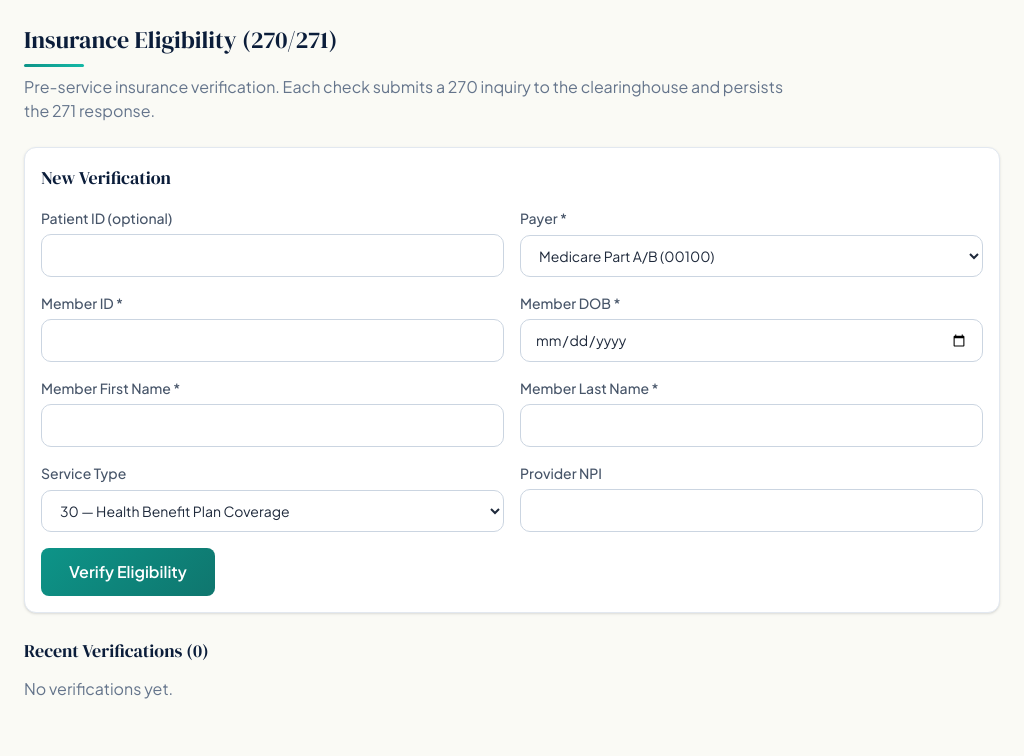
Test: EligibilityPage › submits a verification and shows the result panel
The width and height of the screenshot is (1024, 756).
Check: the heading "New Verification" is shown, box [41,165,171,190]
Type "1EG4-TE5-MK74" into the field labelled "Member ID *" at {"x": 272, "y": 340}, box [41,319,504,362]
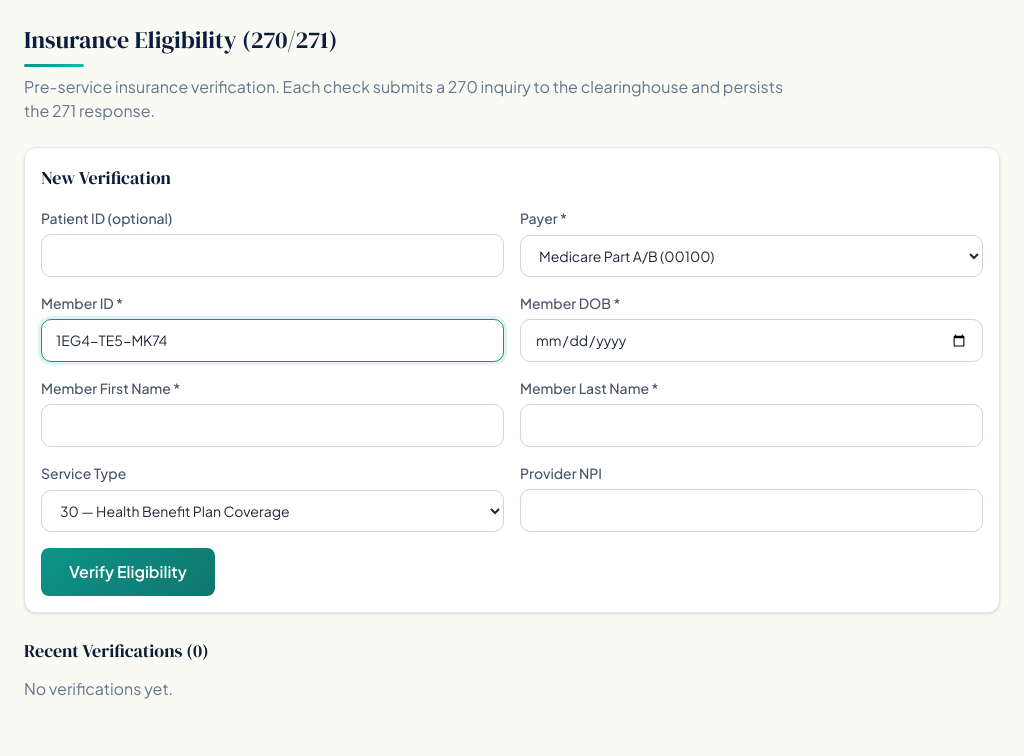
Type "1940-03-14" into the date field labelled "Member DOB *" at {"x": 752, "y": 340}, box [520,319,983,362]
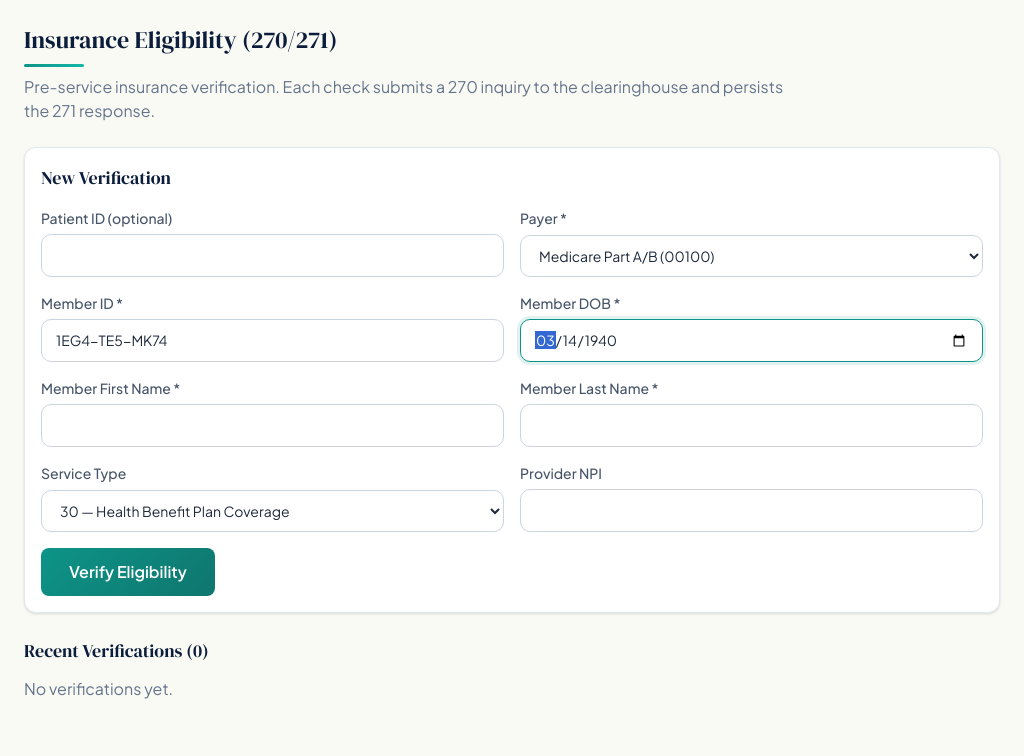
Type "Margaret" into the field labelled "Member First Name *" at {"x": 272, "y": 426}, box [41,404,504,447]
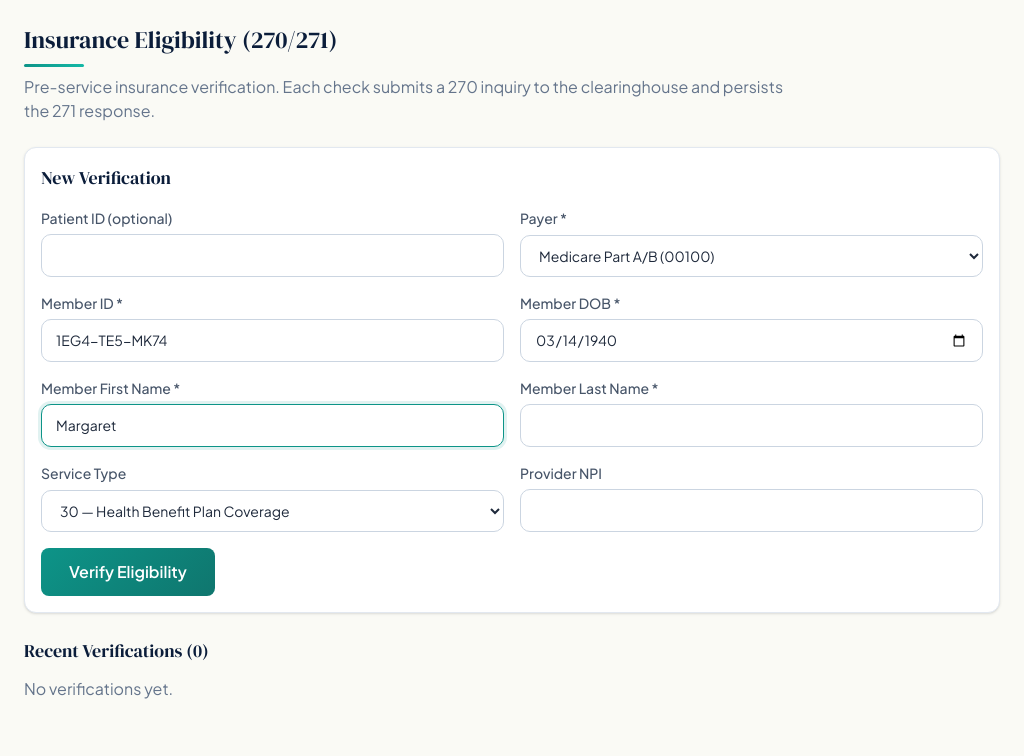
Type "Doe" into the field labelled "Member Last Name *" at {"x": 752, "y": 426}, box [520,404,983,447]
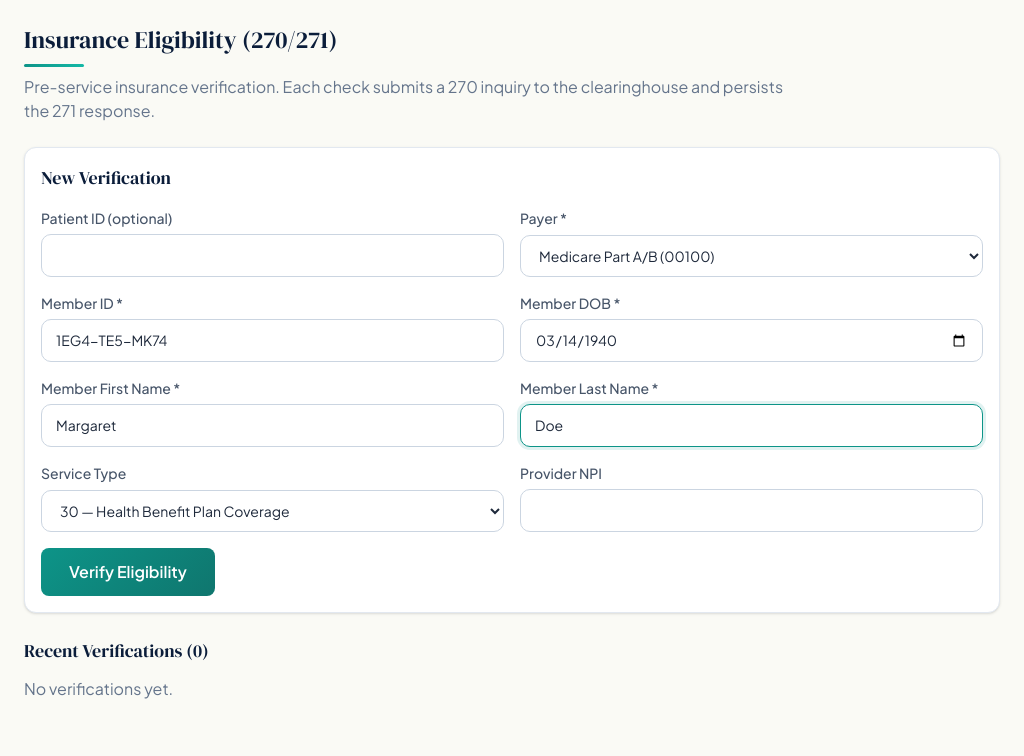
Click the button "Verify Eligibility" at {"x": 128, "y": 572}, box [41,548,215,596]
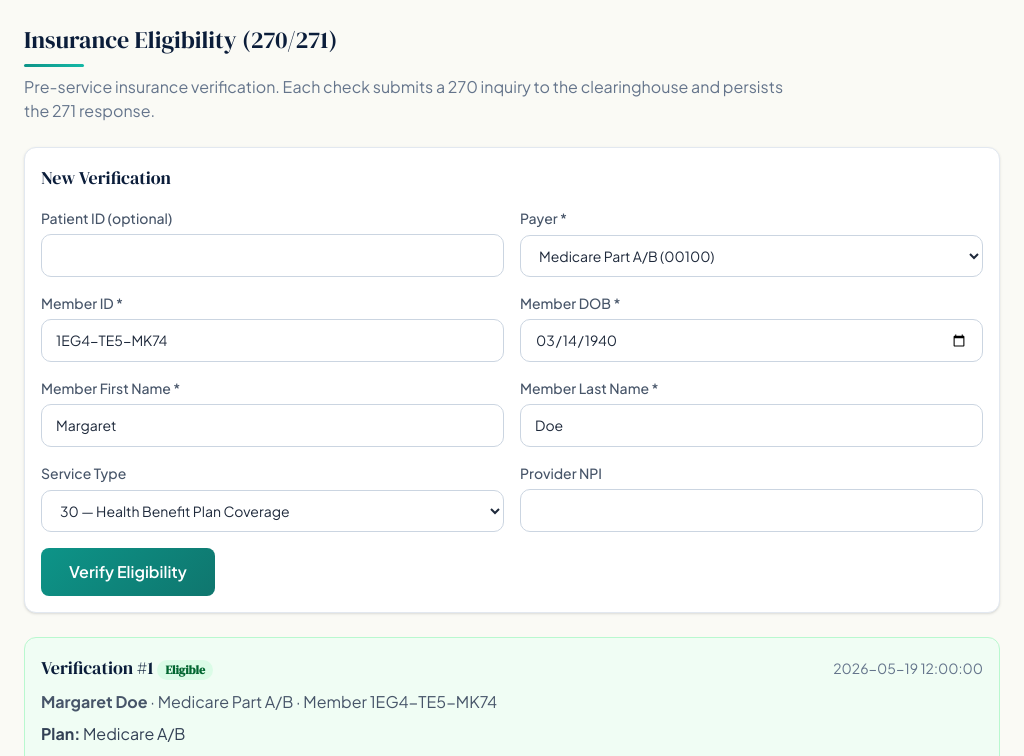
Check: the heading "Verification #1 Eligible" is shown, box [41,654,213,682]
